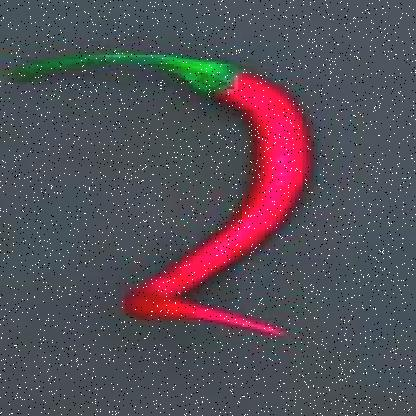chili: (48, 36, 318, 342)
